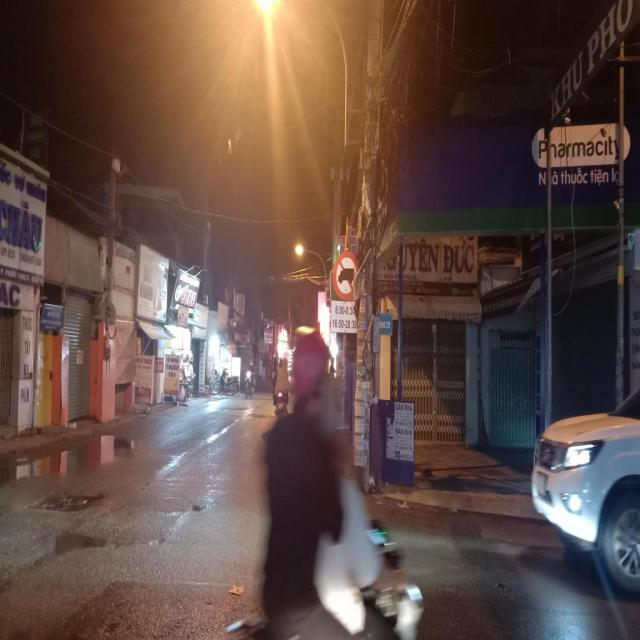cam_o_to_tai: (331, 250, 358, 299)
khac: (332, 299, 358, 333)
